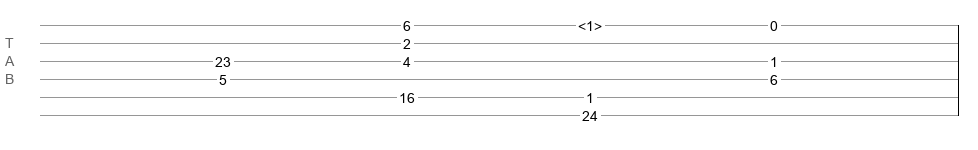0: (770, 18, 778, 28)
1: (586, 90, 594, 100), (770, 54, 778, 64)
16: (399, 90, 415, 100)
2: (403, 36, 411, 46)
23: (215, 54, 231, 64)
24: (582, 108, 598, 118)
4: (403, 54, 411, 64)
5: (219, 72, 227, 82)
6: (403, 18, 411, 28), (770, 72, 778, 82)
harmonic: (578, 18, 602, 28)
